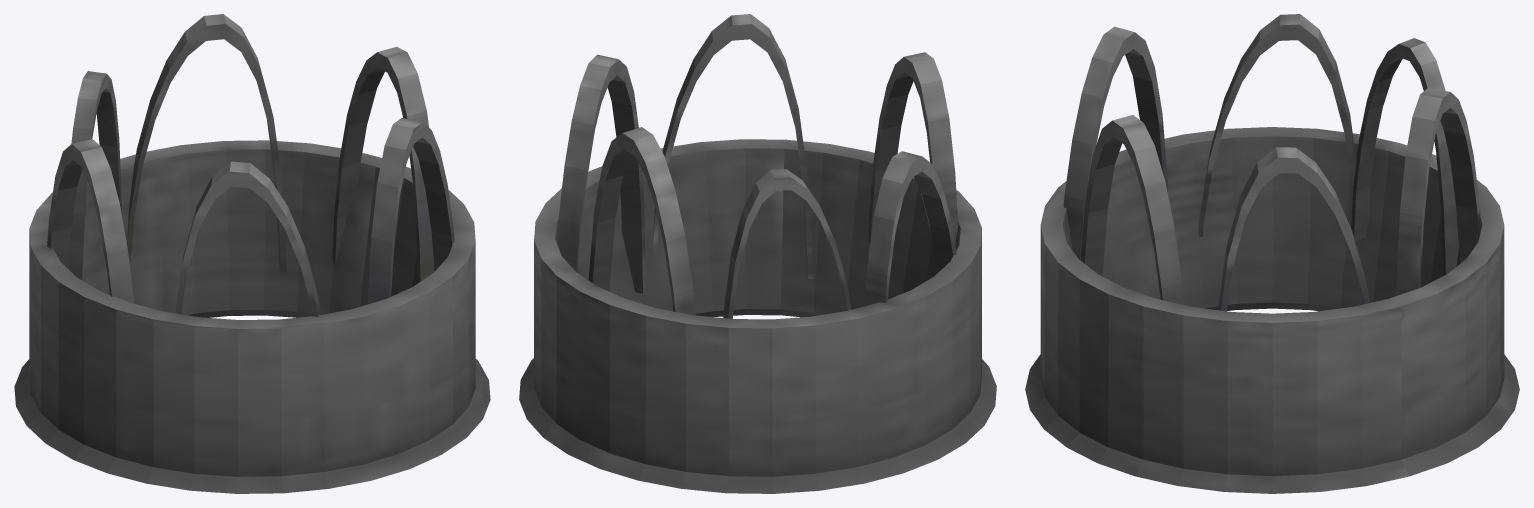
File: cow feeder.fbx
3 renders of one model, left to right at view 1: azimuth 30°, elevation 25°; view 2: azimuth 150°, elevation 25°; view 3: azimuth 270°, elevation 25°, orthographic. The views are drawn at different scales.
Parts seen in each view (by area): view 1: cow feeder; view 2: cow feeder; view 3: cow feeder.
Boxes of the visible parts, left/top/right/bottom form: cow feeder: left=14, top=14, right=490, bottom=493; cow feeder: left=519, top=14, right=996, bottom=493; cow feeder: left=1025, top=14, right=1519, bottom=493.
Bounding box in the file's own units: 213 × 151 × 213.
